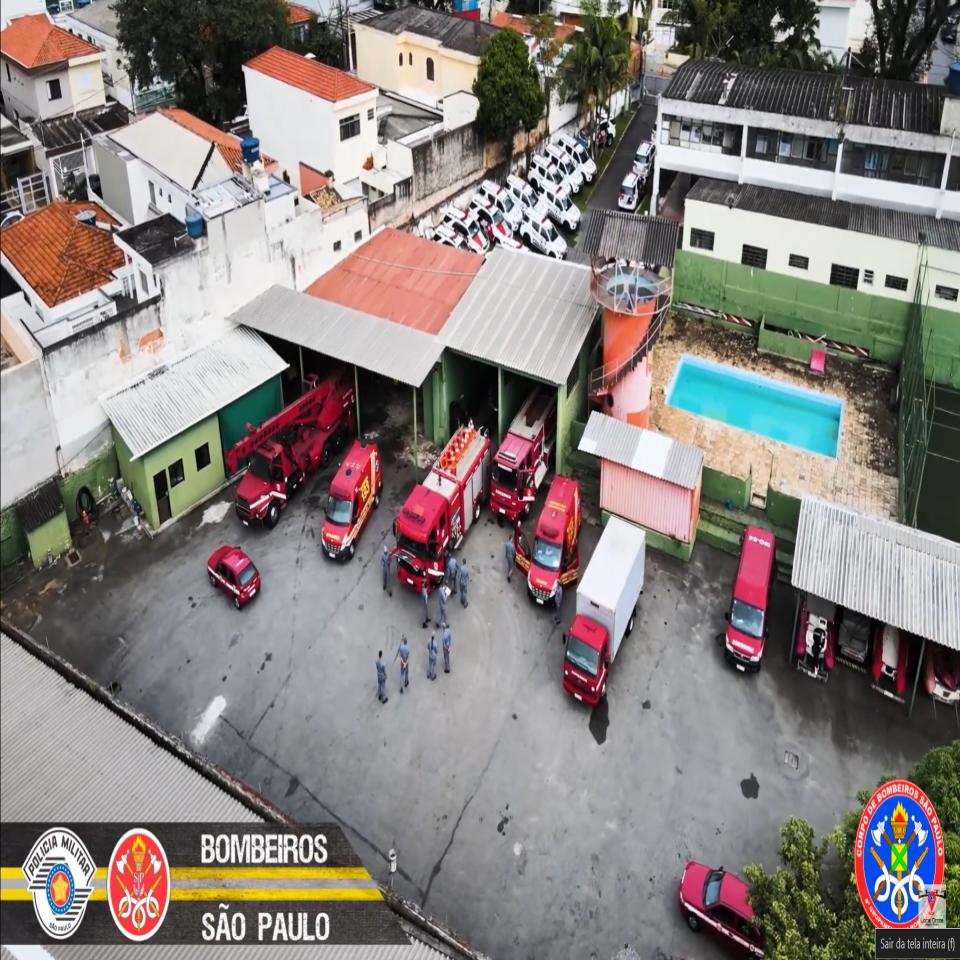viatura: (224, 374, 357, 532), (486, 390, 555, 526)
